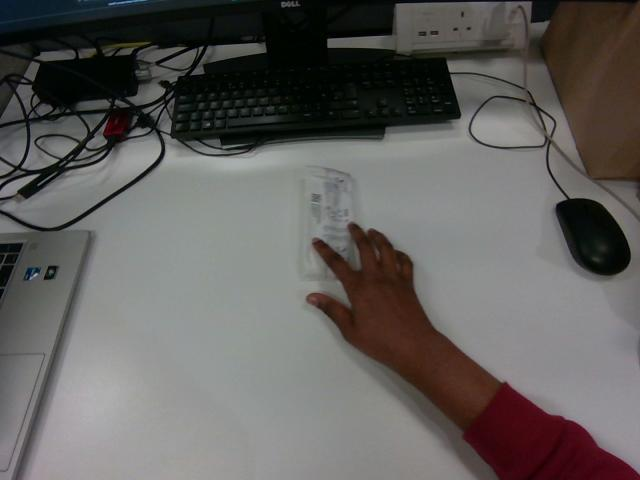syringe: (300, 166, 353, 279)
